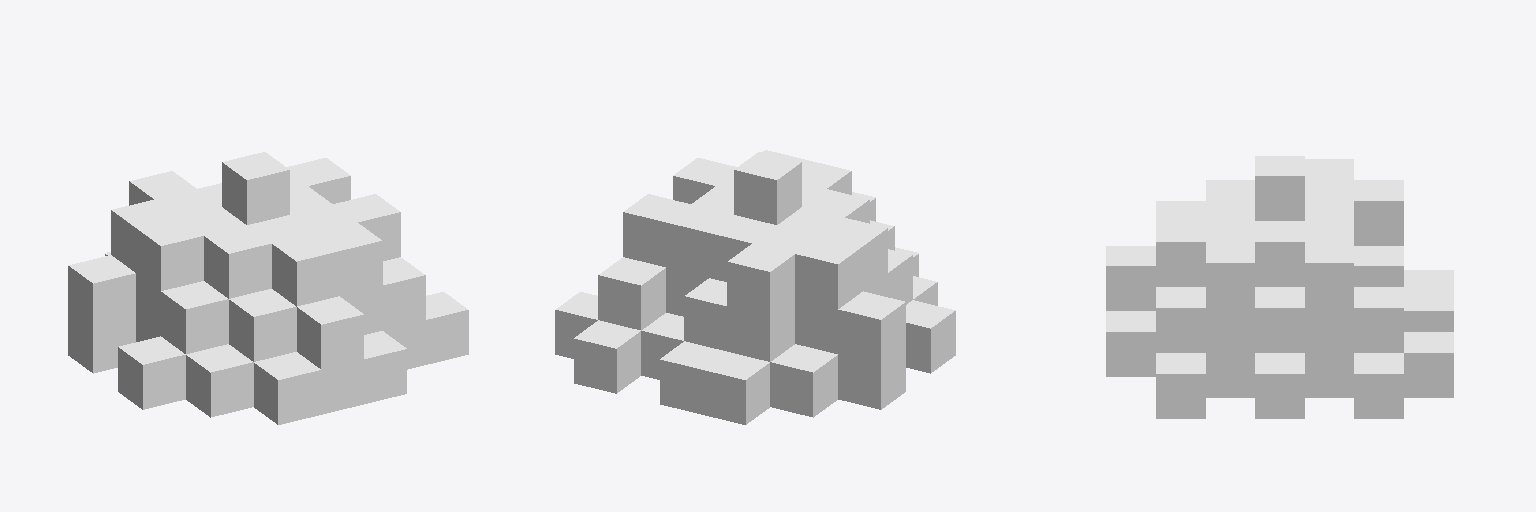
The model's file is scenery1_Rock_Desert.obj.
The picture shows the model from 3 angles: view 1: azimuth 30°, elevation 25°; view 2: azimuth 150°, elevation 25°; view 3: azimuth 270°, elevation 25°; orthographic projection.
Parts seen in each view (by area): view 1: object 1; view 2: object 1; view 3: object 1.
Boxes of the visible parts, x1=… form: object 1: x1=68, y1=152, x2=468, y2=424; object 1: x1=555, y1=150, x2=955, y2=424; object 1: x1=1106, y1=156, x2=1453, y2=418.
Size of the model in its own units: 0.7 by 0.4 by 0.7.